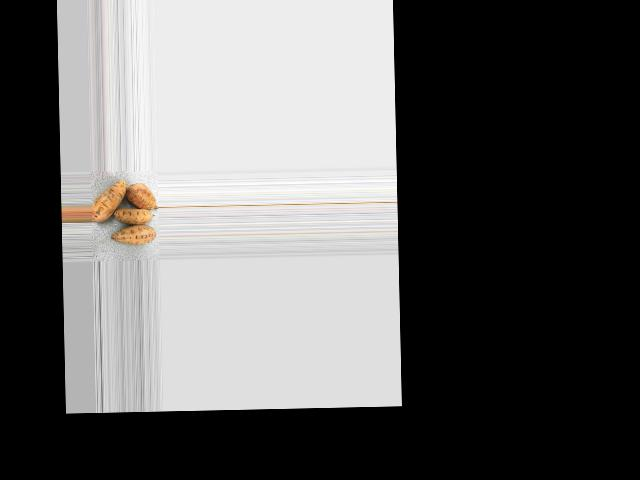sweet_potato: (90, 176, 127, 227)
